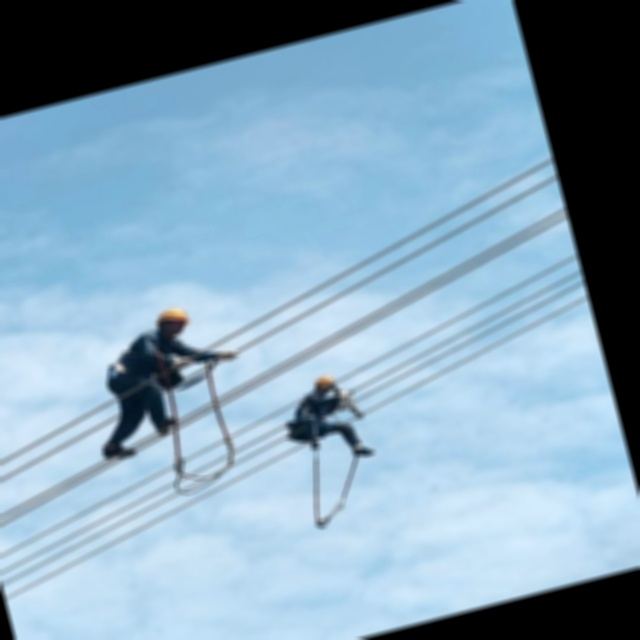Con_Casco: (152, 304, 195, 341)
